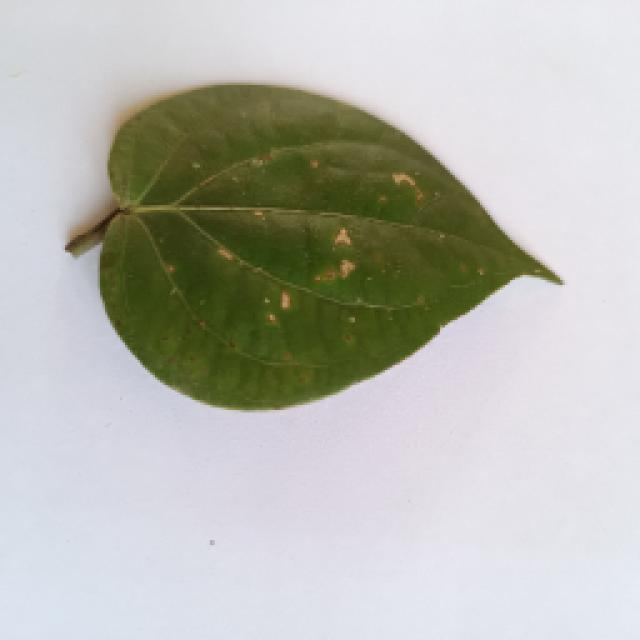pollu-disease: (55, 72, 570, 410)
